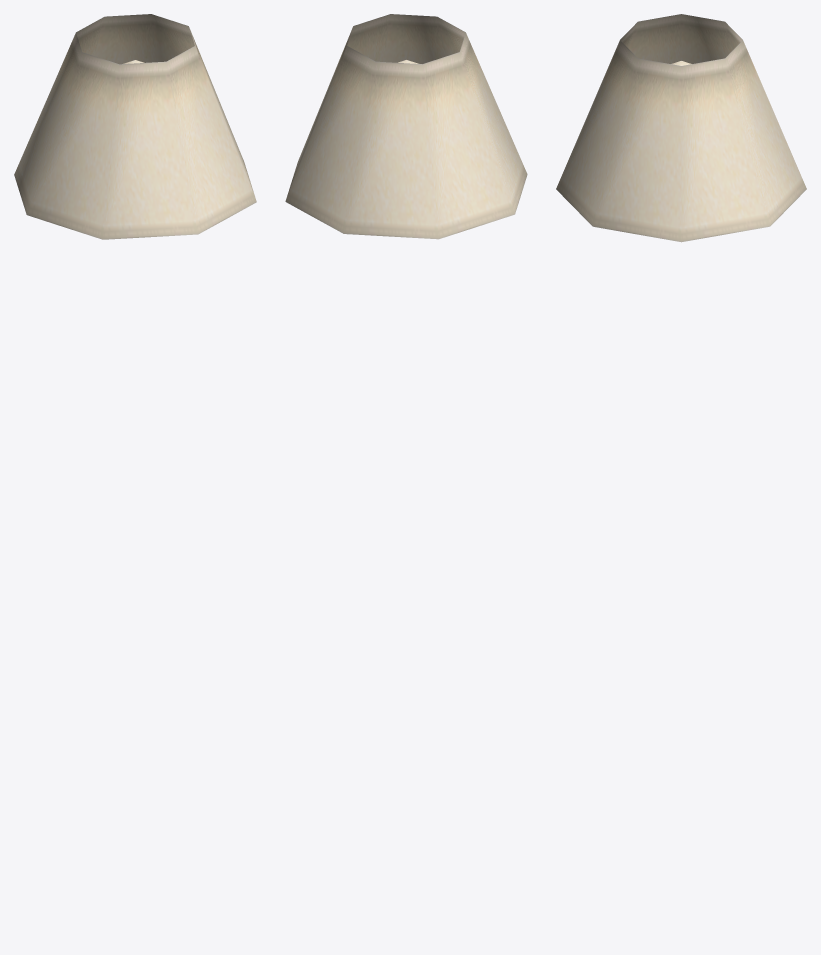
Rendered from silverbase.fbx.
The picture shows the model from 3 angles, left to right: view 1: azimuth 30°, elevation 25°; view 2: azimuth 150°, elevation 25°; view 3: azimuth 270°, elevation 25°; orthographic projection.
Visible parts, largest first — view 1: mesh_0; view 2: mesh_0; view 3: mesh_0.
Boxes of the visible parts, left/top/right/bottom form: mesh_0: left=14, top=14, right=256, bottom=239; mesh_0: left=285, top=14, right=527, bottom=239; mesh_0: left=556, top=14, right=806, bottom=242.
Size of the model in its own units: 47.36 by 179 by 47.36.
Materials: 1 (1 with a texture image).
